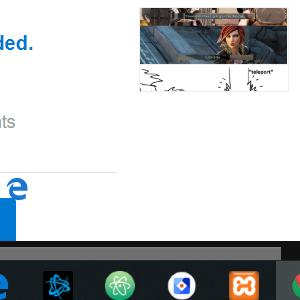edge: (7, 178, 27, 200)
